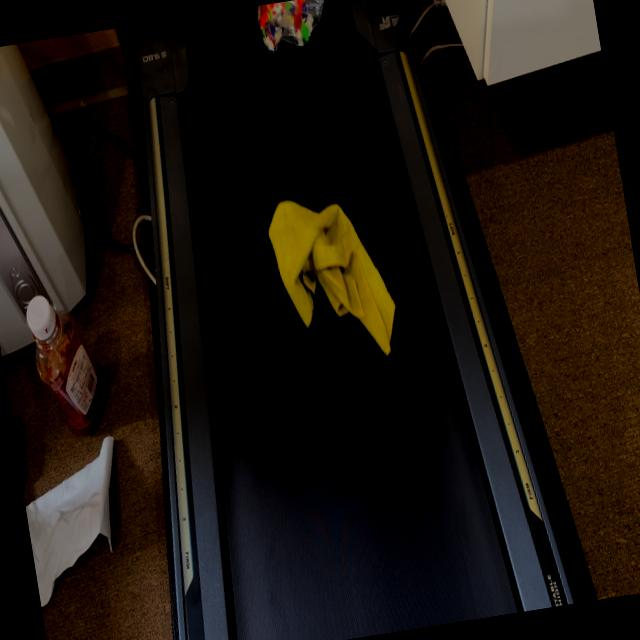Trash: (259, 177, 408, 382), (254, 0, 337, 69)
